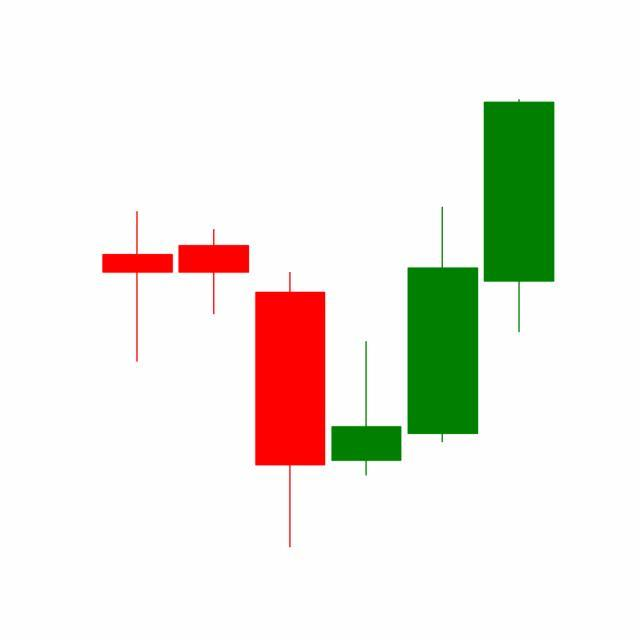Three Inside Up-Down: (252, 202, 482, 548)
